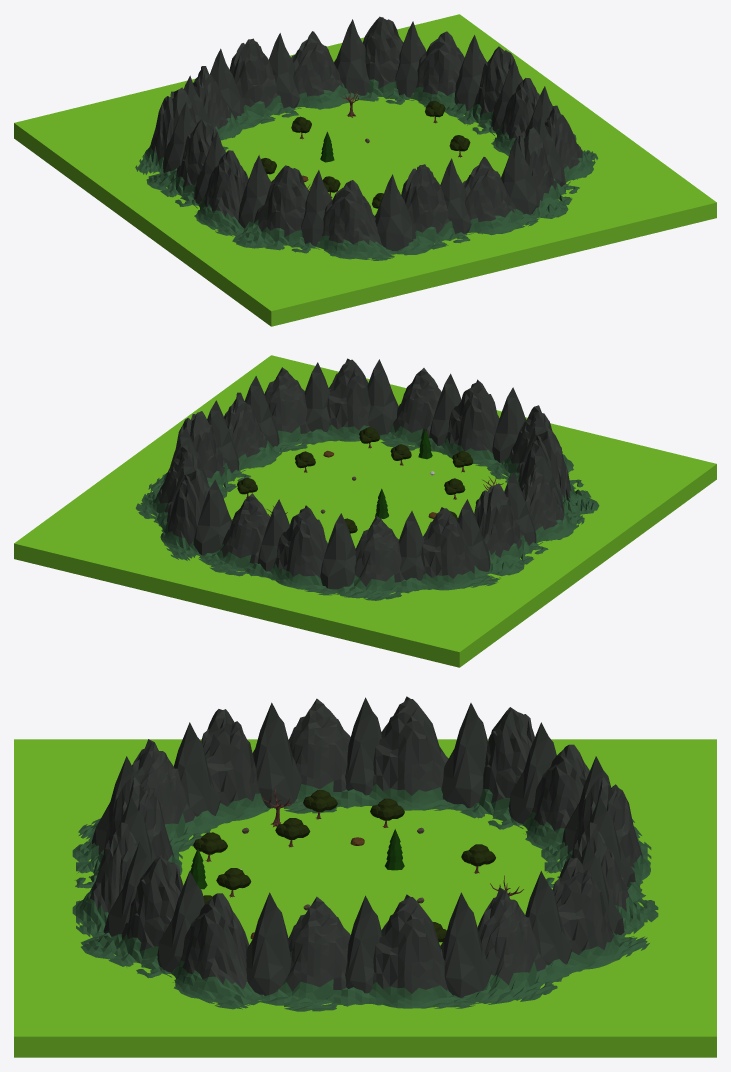
Rendered from Stage3.fbx.
The picture shows the model from 3 angles, top to bottom: view 1: azimuth 30°, elevation 25°; view 2: azimuth 150°, elevation 25°; view 3: azimuth 270°, elevation 25°; orthographic projection. The views are drawn at different scales.
Visible parts, largest first — view 1: Cube, mountain__5_, mountain, mountain__1_, mountain__4_, mountain__2_, mountain__7_, mountain__3_, mountain__6_, Rock12__11_, Rock12__13_, Rock12__12_ (+12 smaller); view 2: Cube, mountain__6_, mountain__1_, mountain, mountain__2_, mountain__7_, mountain__3_, mountain__4_, mountain__5_, Rock12__10_, Rock12__13_, Rock12__12_ (+10 smaller); view 3: Cube, mountain__3_, mountain__7_, mountain__4_, mountain__2_, mountain__5_, mountain__6_, mountain, mountain__1_, Rock12__14_, Rock12__8_, Rock12__15_ (+19 smaller).
Part boxes in pixels (x1,y1,x2,y2): Cube: (14, 14, 716, 326); mountain__5_: (232, 165, 396, 260); mountain: (396, 157, 539, 255); mountain__1_: (229, 31, 363, 129); mountain__4_: (352, 16, 464, 109); mountain__2_: (146, 119, 248, 236); mountain__7_: (510, 105, 598, 218); mountain__3_: (444, 46, 576, 156); mountain__6_: (135, 66, 242, 174); Rock12__11_: (375, 174, 415, 250); Rock12__13_: (334, 19, 369, 95); Rock12__12_: (501, 139, 539, 214); Cube: (14, 355, 716, 667); mountain__6_: (332, 507, 500, 600); mountain__1_: (198, 493, 338, 595); mountain: (379, 368, 501, 467); mountain__2_: (474, 465, 584, 576); mountain__7_: (264, 358, 370, 452); mountain__3_: (148, 392, 284, 498); mountain__4_: (135, 445, 210, 560); mountain__5_: (487, 405, 599, 515); Rock12__10_: (320, 513, 356, 589); Rock12__13_: (193, 479, 231, 555); Rock12__12_: (367, 359, 398, 435); Cube: (14, 739, 716, 1057); mountain__3_: (258, 894, 475, 1011); mountain__7_: (80, 855, 263, 1009); mountain__4_: (462, 857, 649, 1004); mountain__2_: (283, 696, 458, 813); mountain__5_: (78, 709, 274, 851); mountain__6_: (442, 707, 641, 849); mountain: (72, 776, 182, 936); mountain__1_: (541, 776, 658, 935); Rock12__14_: (440, 892, 491, 997); Rock12__8_: (252, 702, 301, 808); Rock12__15_: (246, 892, 291, 995).
Bounding box in the file's own units: 30000 × 5360 × 30000.
